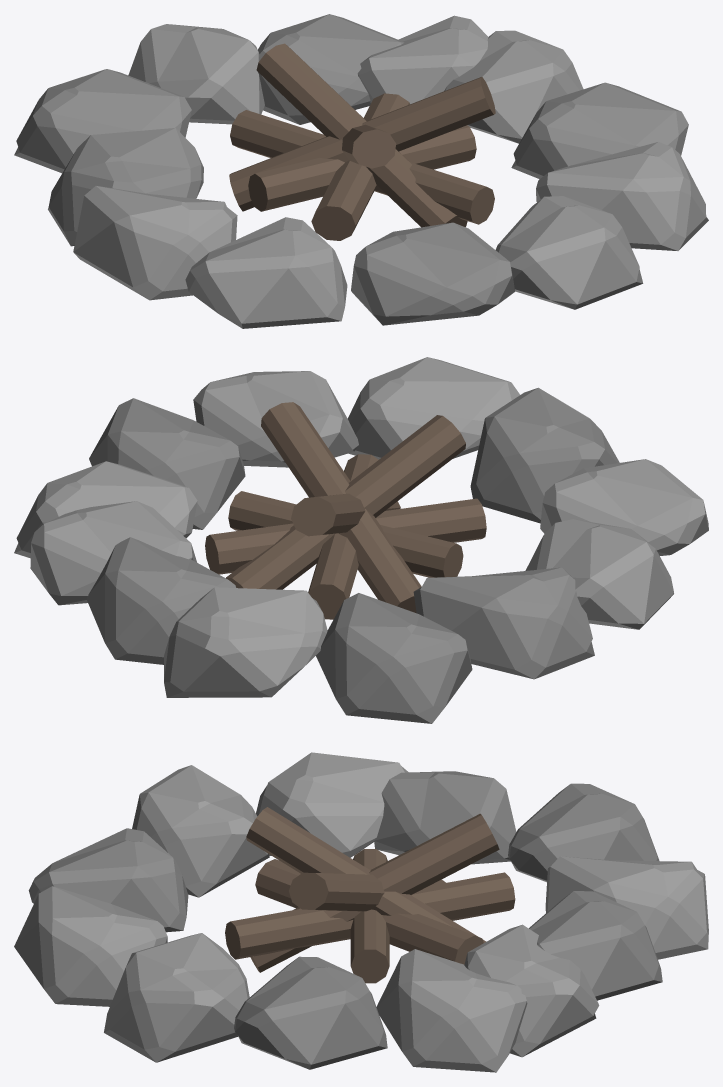
File: Firepit.fbx
3 views of the same model, one above another, from view 1: azimuth 30°, elevation 25°; view 2: azimuth 150°, elevation 25°; view 3: azimuth 270°, elevation 25° (orthographic). The views are drawn at different scales.
Parts seen in each view (by area): view 1: firepit, firewood; view 2: firepit, firewood; view 3: firepit, firewood.
Boxes of the visible parts, x1,y1,x2,y2 form: firepit: [14, 14, 708, 328]; firewood: [229, 43, 495, 240]; firepit: [14, 357, 708, 723]; firewood: [205, 402, 486, 619]; firepit: [14, 752, 708, 1072]; firewood: [225, 807, 515, 983].
Size of the model in its own units: 1.39 by 0.3025 by 1.49.
